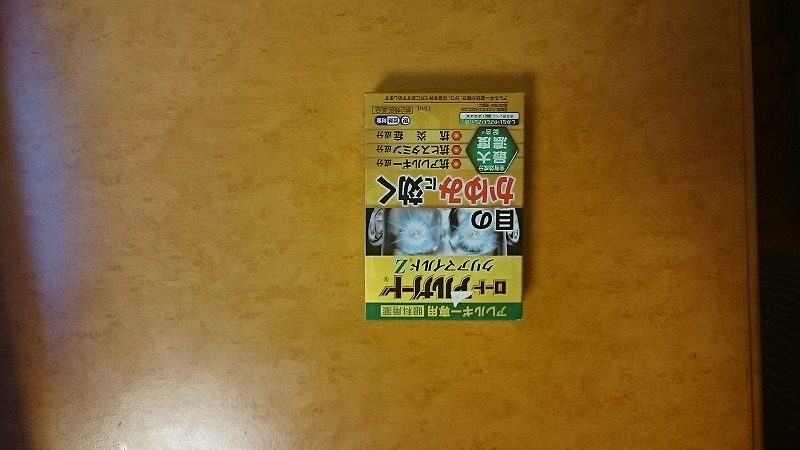C: (361, 84, 530, 330)
